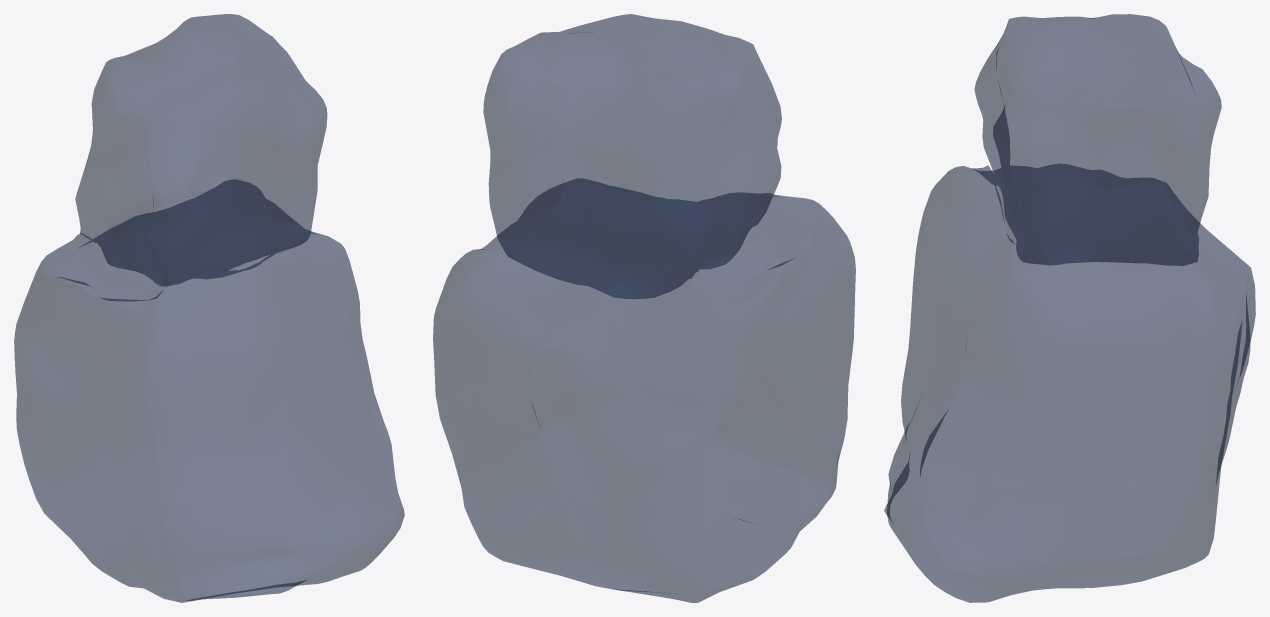
The model's file is 567346b3-a9cd-4cfa-bdbf-a22066c2b5b0.fbx.
3 views of the same model, side by side, from view 1: azimuth 30°, elevation 25°; view 2: azimuth 150°, elevation 25°; view 3: azimuth 270°, elevation 25° (orthographic). The views are drawn at different scales.
Parts seen in each view (by area): view 1: ice cube; view 2: ice cube; view 3: ice cube.
Boxes of the visible parts, box(x1,y1,x2,y2) form: ice cube: box(14, 14, 404, 602); ice cube: box(433, 14, 855, 602); ice cube: box(884, 14, 1255, 602).
Bounding box in the file's own units: 101 × 168 × 111.
1 material, 1 textured.
